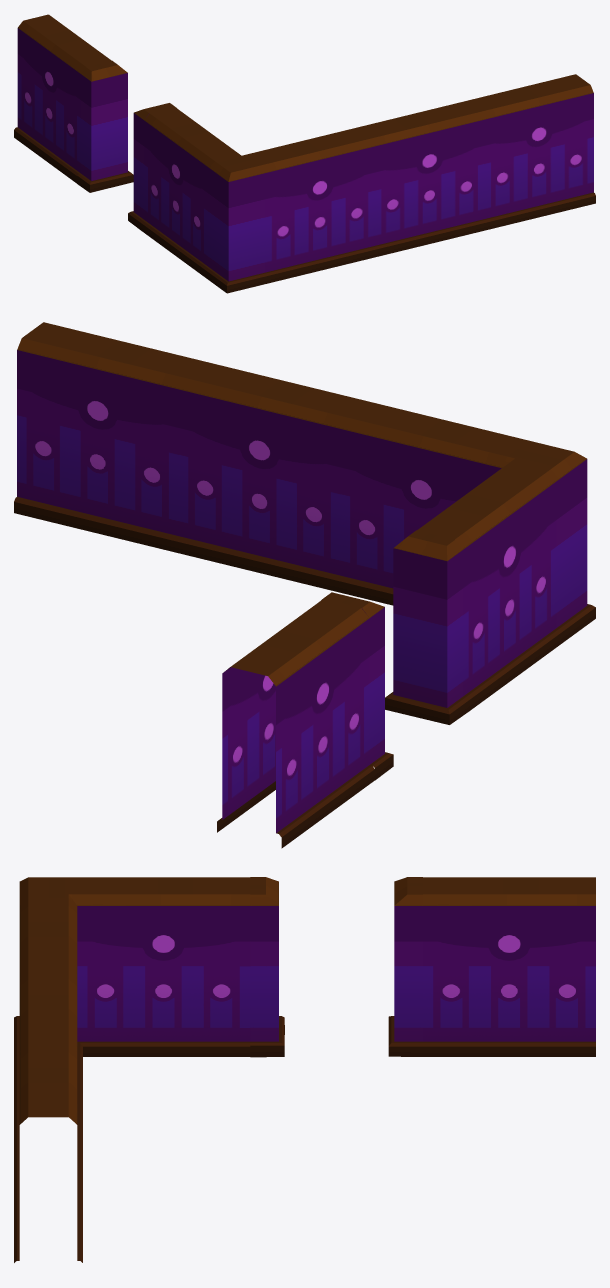
File: s1_Bedroom1Walls_v3.fbx
The picture shows the model from 3 angles, top to bottom: view 1: azimuth 30°, elevation 25°; view 2: azimuth 150°, elevation 25°; view 3: azimuth 270°, elevation 25°; orthographic projection. The views are drawn at different scales.
Visible parts, largest first — view 1: s1_Bedroom1Walls_v3; view 2: s1_Bedroom1Walls_v3; view 3: s1_Bedroom1Walls_v3.
Part boxes in pixels (left/top/right/bottom): s1_Bedroom1Walls_v3: left=14, top=14, right=595, bottom=293; s1_Bedroom1Walls_v3: left=14, top=322, right=595, bottom=848; s1_Bedroom1Walls_v3: left=14, top=877, right=595, bottom=1262.
Bounding box in the file's own units: 1010 × 300 × 1010.
